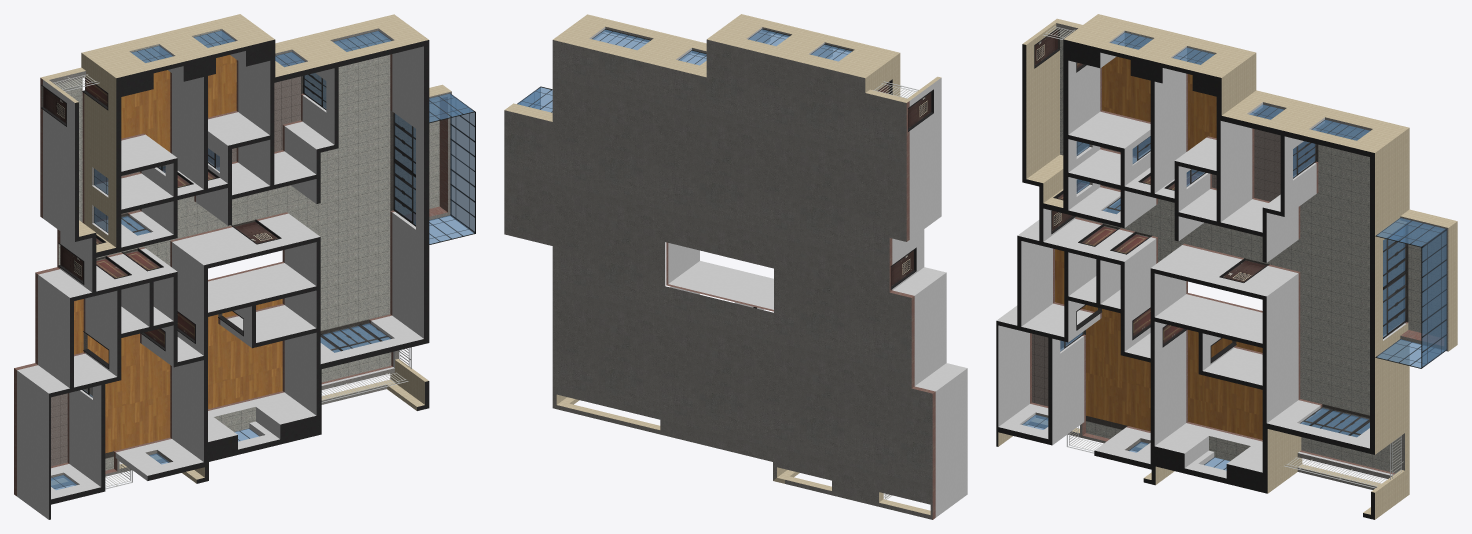
The model's file is example.glb.
3 views of the same model, side by side, from view 1: azimuth 30°, elevation 25°; view 2: azimuth 150°, elevation 25°; view 3: azimuth 330°, elevation 25° (orthographic).
Visible parts, largest first — view 1: HBY_1D_02F_LOD3_001; view 2: HBY_1D_02F_LOD3_001; view 3: HBY_1D_02F_LOD3_001.
Part boxes in pixels (x1,y1,x2,y2): HBY_1D_02F_LOD3_001: (14, 14, 475, 519); HBY_1D_02F_LOD3_001: (504, 14, 967, 519); HBY_1D_02F_LOD3_001: (996, 14, 1457, 519).
Size of the model in its own units: 21.3 by 20.2 by 3.
Materials: 15 (15 with a texture image).
